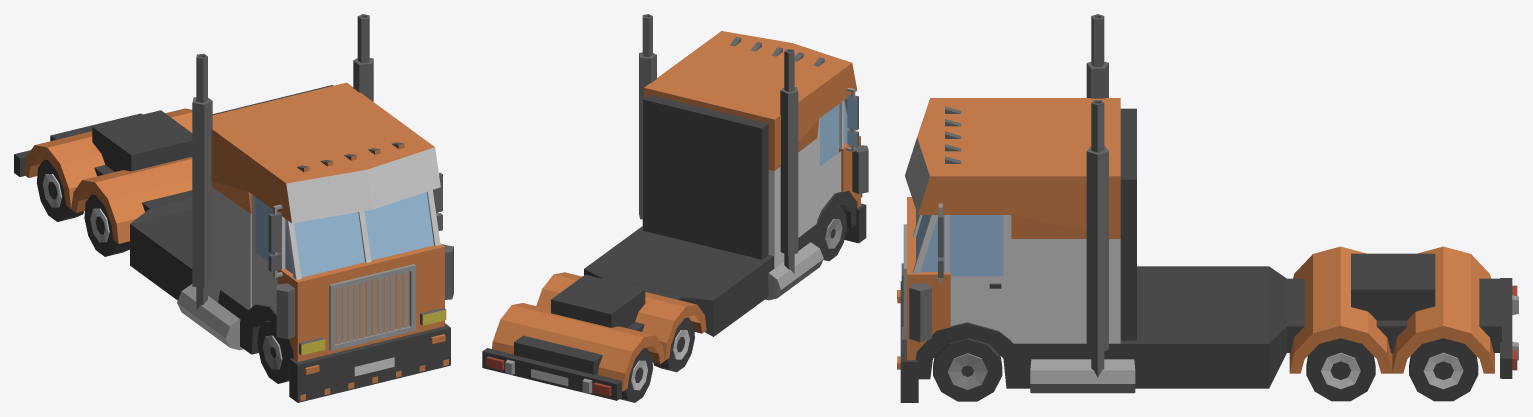
The model's file is transport_truck_002.fbx.
3 views of the same model, side by side, from view 1: azimuth 30°, elevation 25°; view 2: azimuth 150°, elevation 25°; view 3: azimuth 270°, elevation 25° (orthographic). The views are drawn at different scales.
Visible parts, largest first — view 1: transport_truck_002; view 2: transport_truck_002; view 3: transport_truck_002.
Boxes of the visible parts, <box> form: transport_truck_002: <box>14,14,453,402</box>; transport_truck_002: <box>482,14,868,402</box>; transport_truck_002: <box>897,14,1518,402</box>.
Bounding box in the file's own units: 213 × 318 × 587.
